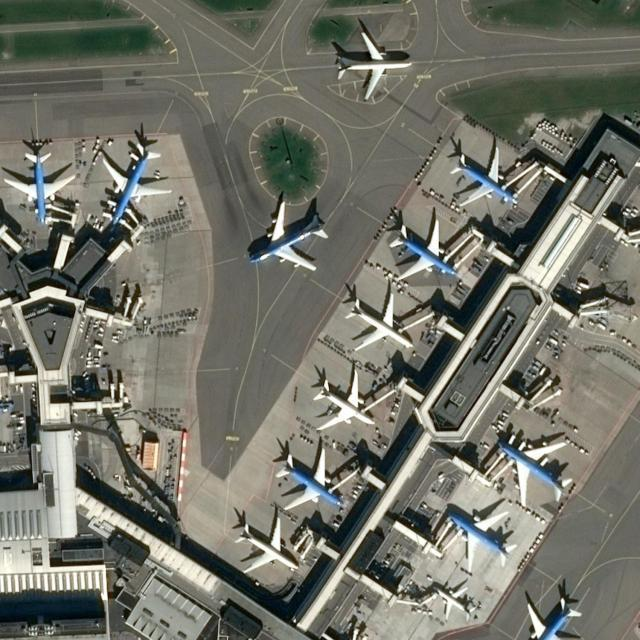Aircraft: (95, 139, 173, 226), (246, 191, 326, 273), (493, 435, 575, 508), (332, 27, 412, 100), (3, 149, 76, 224), (385, 215, 459, 283), (270, 444, 346, 510), (447, 141, 517, 209), (444, 505, 518, 569), (342, 289, 414, 353), (310, 366, 378, 430), (231, 511, 299, 573), (515, 593, 585, 639), (433, 581, 475, 621)
